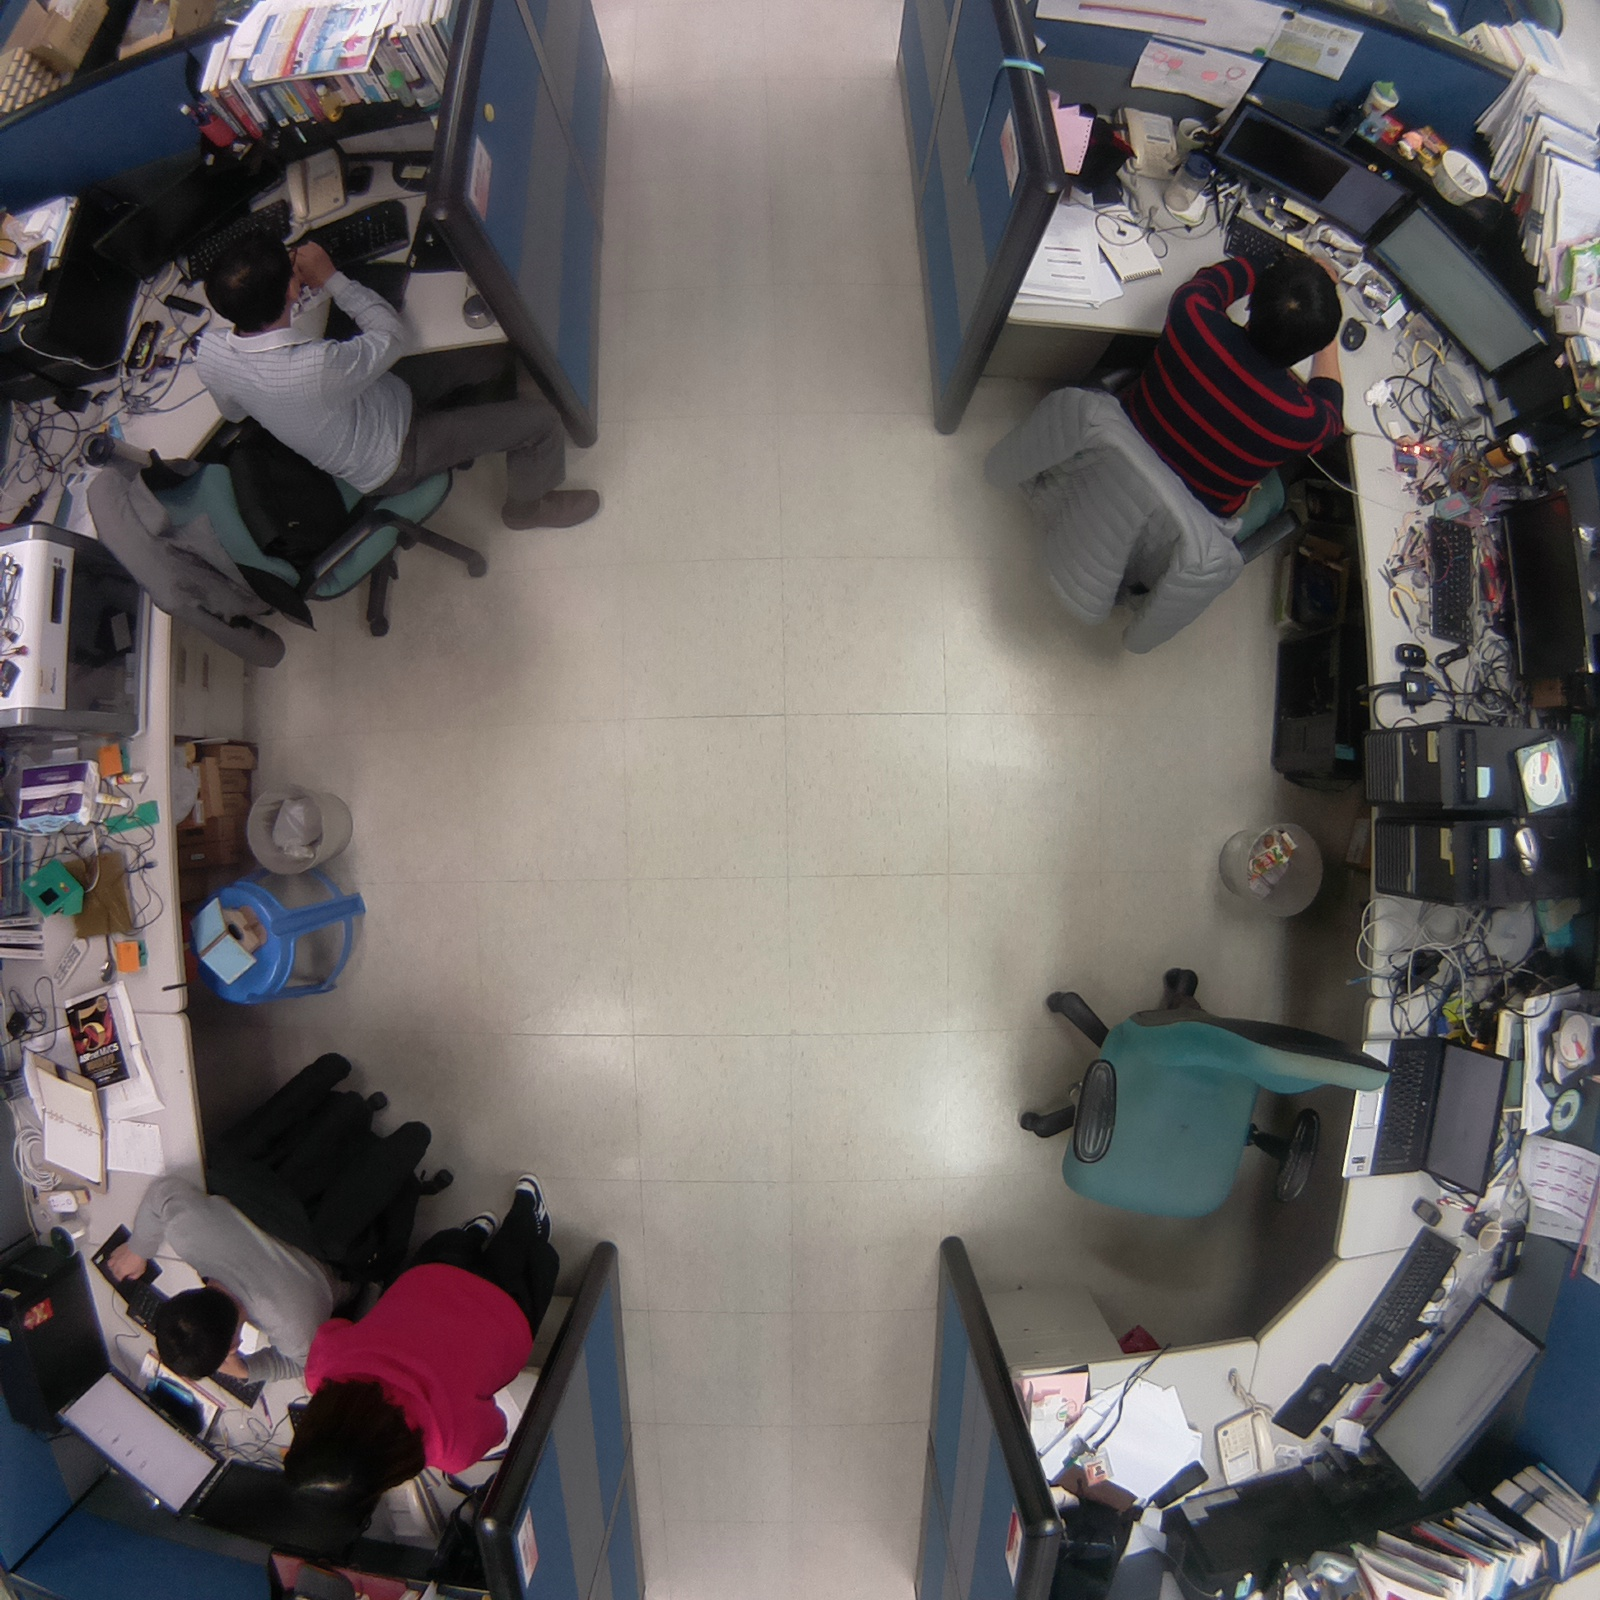head: (276, 1372, 429, 1546), (195, 229, 310, 340), (1236, 253, 1353, 363), (140, 1280, 251, 1385)
sitting: (70, 223, 614, 675), (101, 1032, 463, 1406), (1121, 244, 1364, 527)
standing: (268, 1169, 571, 1558)
